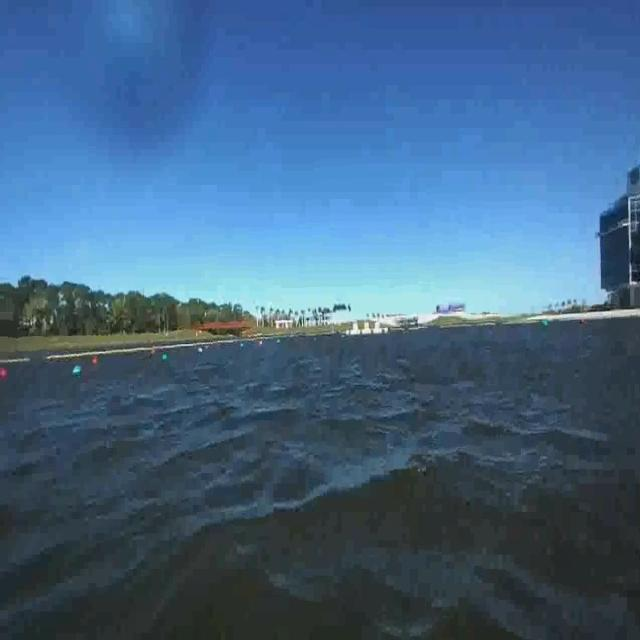green-buoy: (73, 365, 81, 375), (163, 353, 170, 362)
red-buoy: (0, 367, 9, 376)
